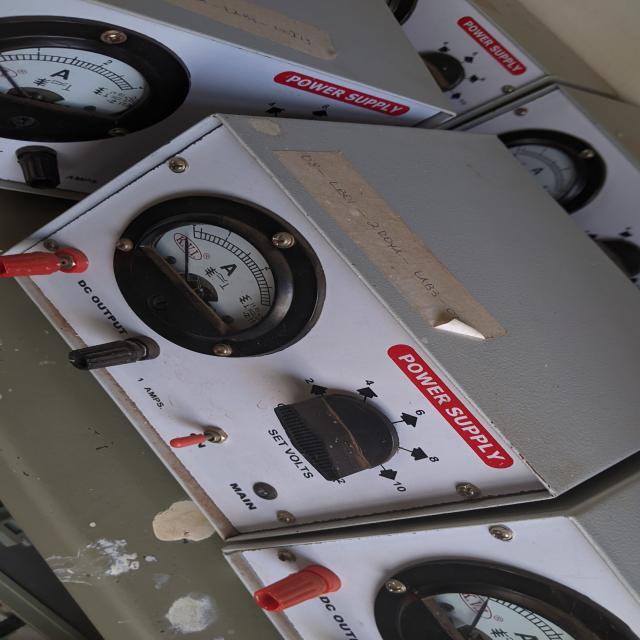Analog DC Power Supply: (2, 118, 584, 532)
